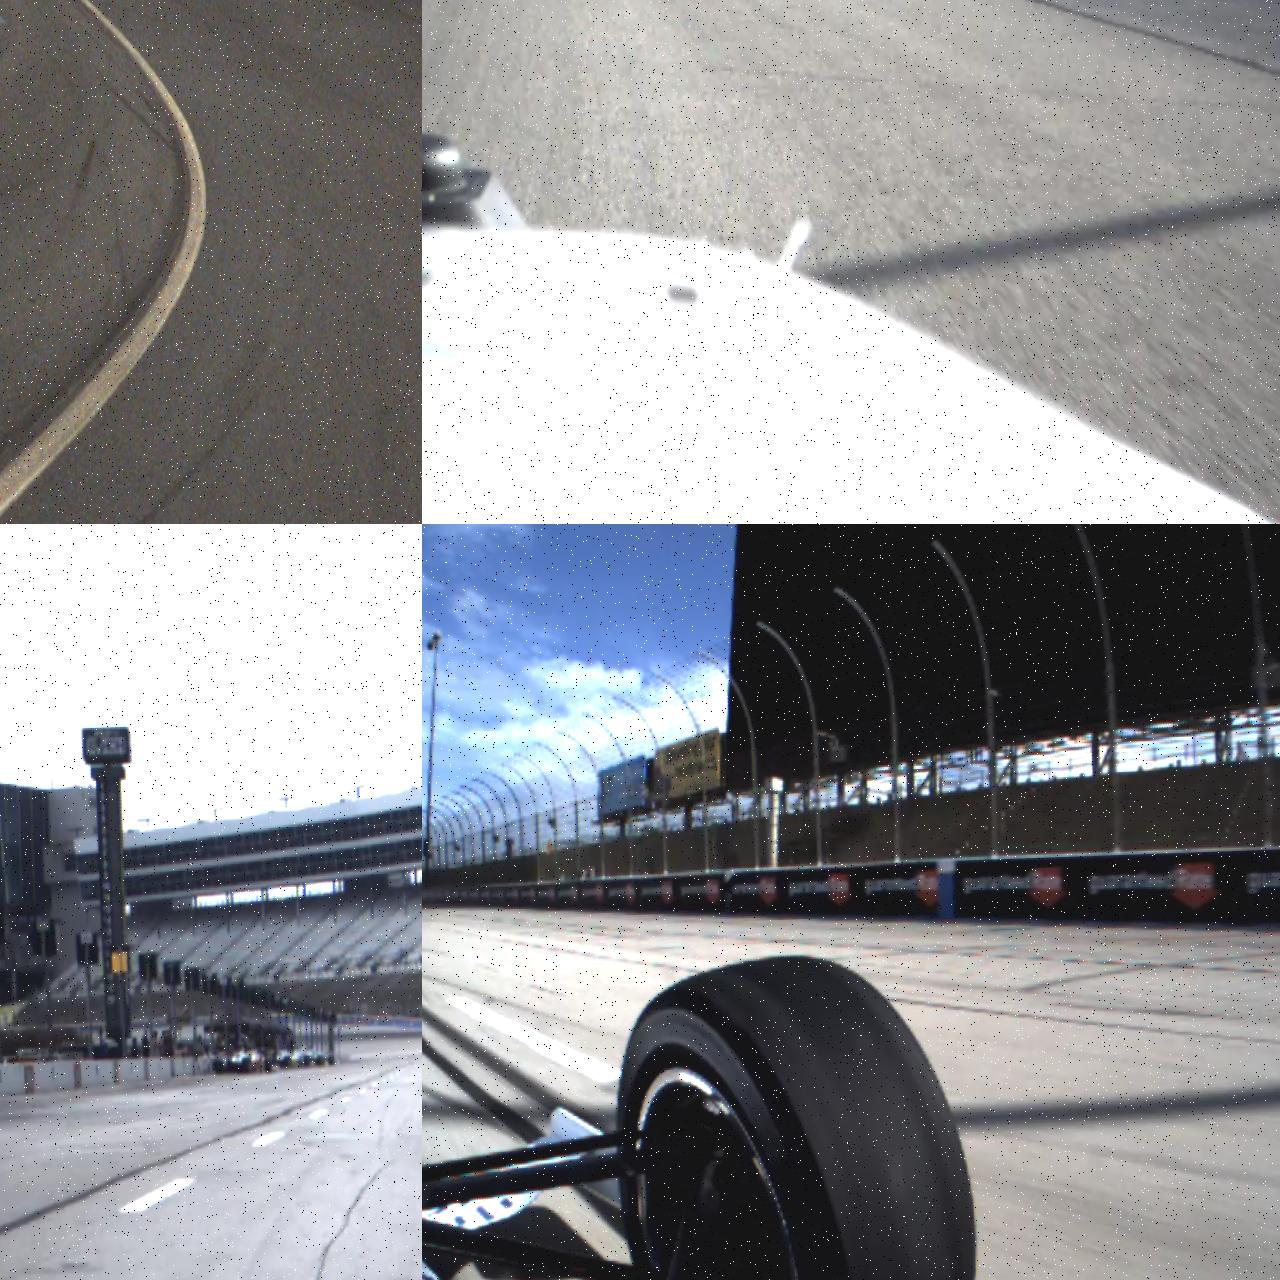AV: (212, 1042, 272, 1075)
Wheel: (611, 948, 983, 1280), (242, 1056, 252, 1073), (214, 1058, 223, 1074), (265, 1056, 272, 1071), (282, 1055, 290, 1068), (304, 1054, 310, 1066), (315, 1056, 321, 1066), (328, 1054, 333, 1064)
